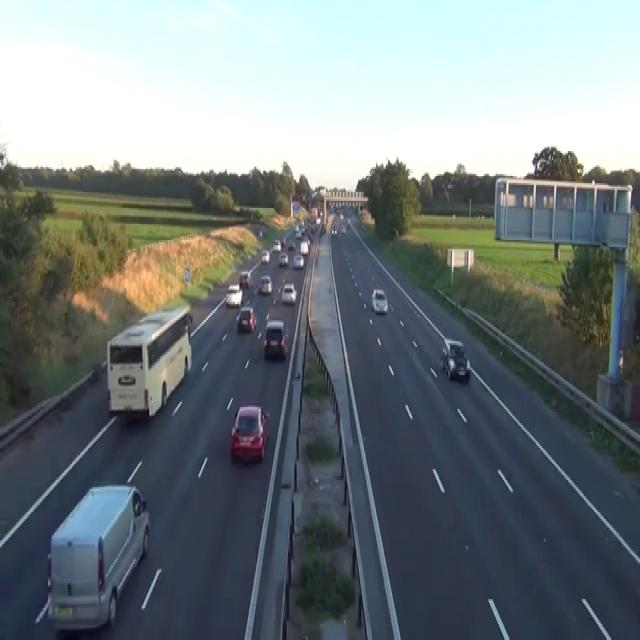Car: (46, 484, 150, 631), (230, 404, 269, 462), (440, 338, 470, 382), (263, 318, 288, 359), (236, 306, 256, 330), (225, 282, 243, 308), (371, 288, 388, 313), (281, 283, 297, 304), (259, 274, 272, 293), (239, 270, 252, 288), (292, 252, 304, 268), (278, 250, 288, 266), (260, 249, 269, 263), (299, 240, 308, 254), (272, 238, 281, 251), (101, 358, 107, 372), (288, 240, 295, 249), (295, 228, 301, 238), (320, 224, 326, 233), (331, 226, 337, 234), (316, 217, 321, 226), (281, 237, 285, 246), (307, 237, 311, 246), (340, 226, 345, 233), (259, 228, 263, 236), (339, 212, 344, 218), (347, 218, 350, 226)
Truck: (106, 304, 192, 420)
